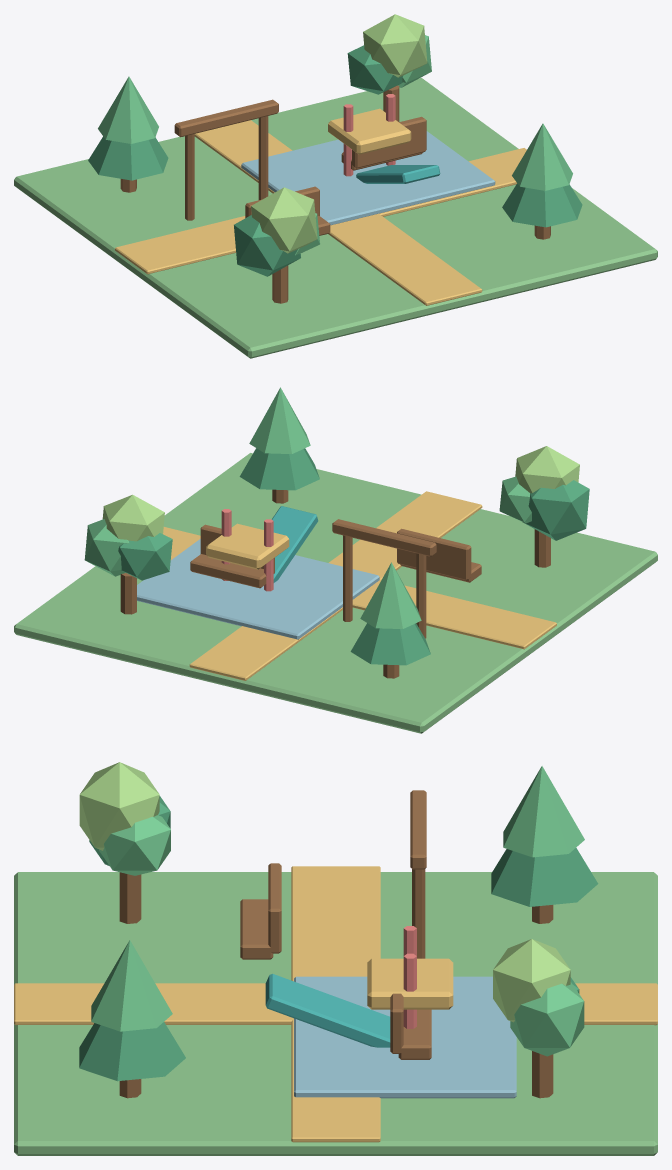
File: PARK_2x2_002.glb
3 renders of one model, top to bottom at view 1: azimuth 30°, elevation 25°; view 2: azimuth 150°, elevation 25°; view 3: azimuth 270°, elevation 25°, orthographic. The views are drawn at different scales.
Visible parts, largest first — view 1: PARK_2x2_002_Visual; view 2: PARK_2x2_002_Visual; view 3: PARK_2x2_002_Visual.
Part boxes in pixels (left/top/right/bottom): PARK_2x2_002_Visual: left=14, top=14, right=657, bottom=358; PARK_2x2_002_Visual: left=14, top=387, right=657, bottom=733; PARK_2x2_002_Visual: left=14, top=762, right=657, bottom=1155.
Size of what is drawn, in the model's own units: 3.9 by 1.15 by 3.9.
